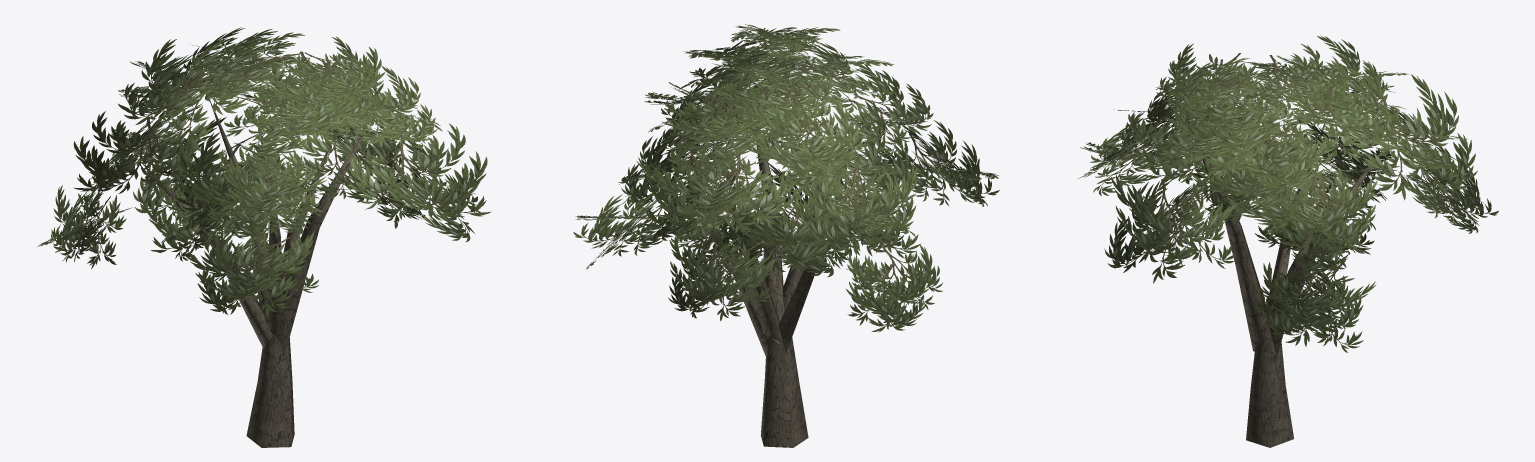
Rendered from white-willow.glb.
3 renders of one model, left to right at view 1: azimuth 30°, elevation 25°; view 2: azimuth 150°, elevation 25°; view 3: azimuth 270°, elevation 25°, orthographic. The views are drawn at different scales.
Parts seen in each view (by area): view 1: white_willow_foliage, white_willow_wood; view 2: white_willow_foliage, white_willow_wood; view 3: white_willow_foliage, white_willow_wood.
Part boxes in pixels (left/top/right/bottom): white_willow_foliage: left=37, top=27, right=490, bottom=317; white_willow_wood: left=138, top=101, right=369, bottom=447; white_willow_foliage: left=573, top=24, right=999, bottom=332; white_willow_wood: left=672, top=85, right=871, bottom=447; white_willow_foliage: left=1078, top=35, right=1498, bottom=352; white_willow_wood: left=1186, top=116, right=1387, bottom=447.
Bounding box in the file's own units: 7.88 × 7.12 × 7.9.
Materials: 2 (2 with a texture image).
